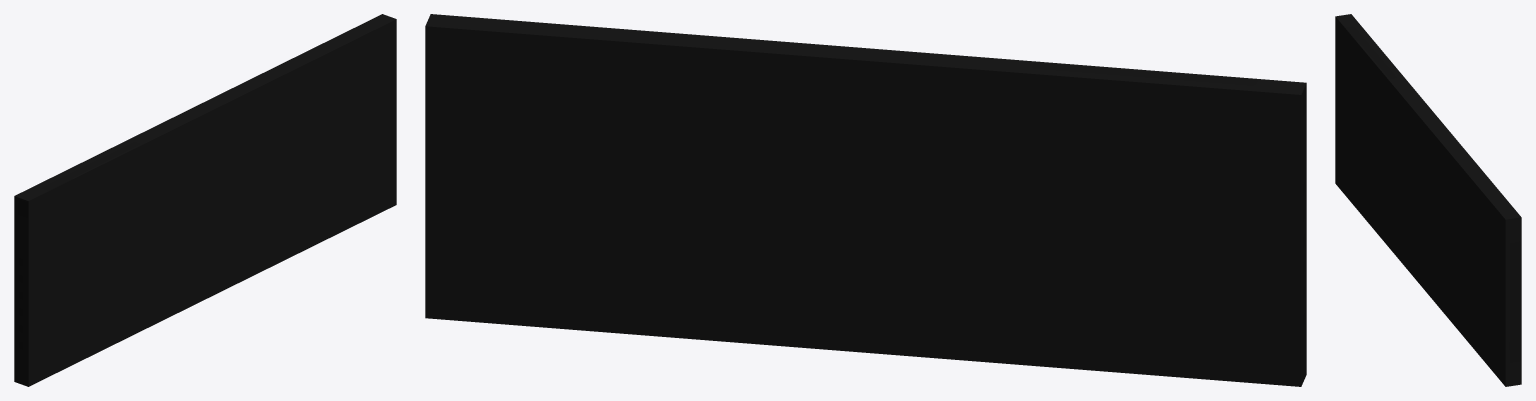
File: backrest__backrest_pad_board.glb
3 renders of one model, left to right at view 1: azimuth 30°, elevation 25°; view 2: azimuth 150°, elevation 25°; view 3: azimuth 270°, elevation 25°, orthographic. The views are drawn at different scales.
Visible parts, largest first — view 1: world; view 2: world; view 3: world.
Boxes of the visible parts, x1,y1,x2,y2 form: world: (14, 14, 396, 386); world: (425, 14, 1306, 386); world: (1335, 14, 1521, 386).
Bounding box in the file's own units: 0.7196 × 0.2728 × 0.2752.
Materials: 1 (1 with a texture image).
